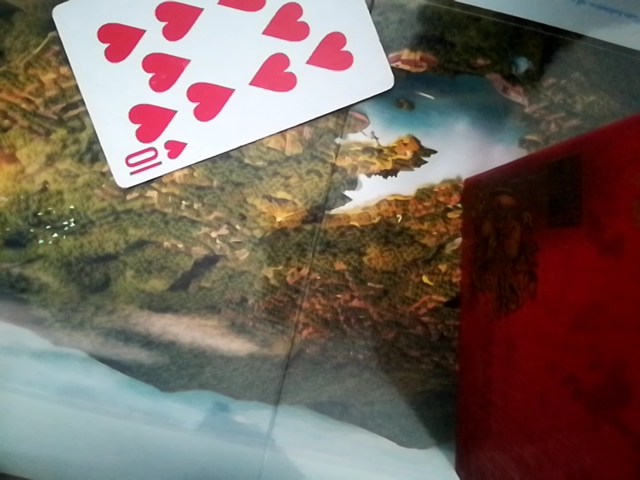hx 10: (43, 0, 396, 190)
